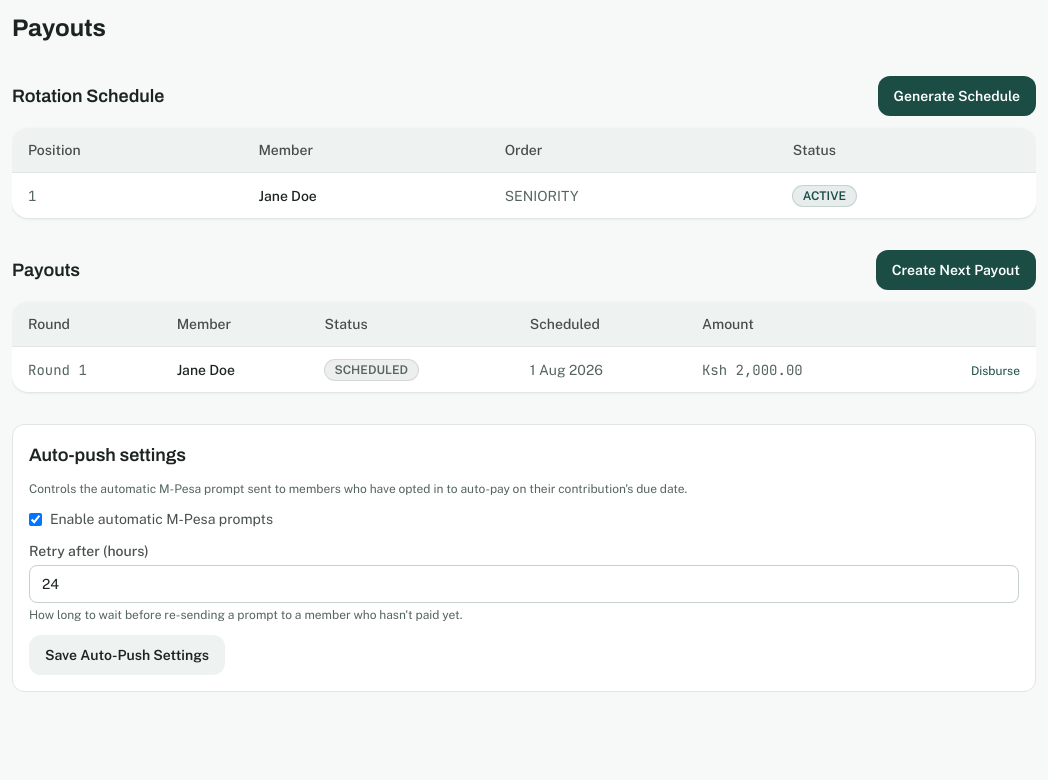
Scenario: PayoutsPage › preloads auto-push settings for a manager and saves changes
Check: the heading "Auto-push settings" is shown, box [29,445,186,465]
Check: the number field labelled "Retry after (hours)" holds "24", box [29,565,1019,603]
Click the checkbox named "Enable auto-push". click: (36, 519)
box: [29,512,42,526]
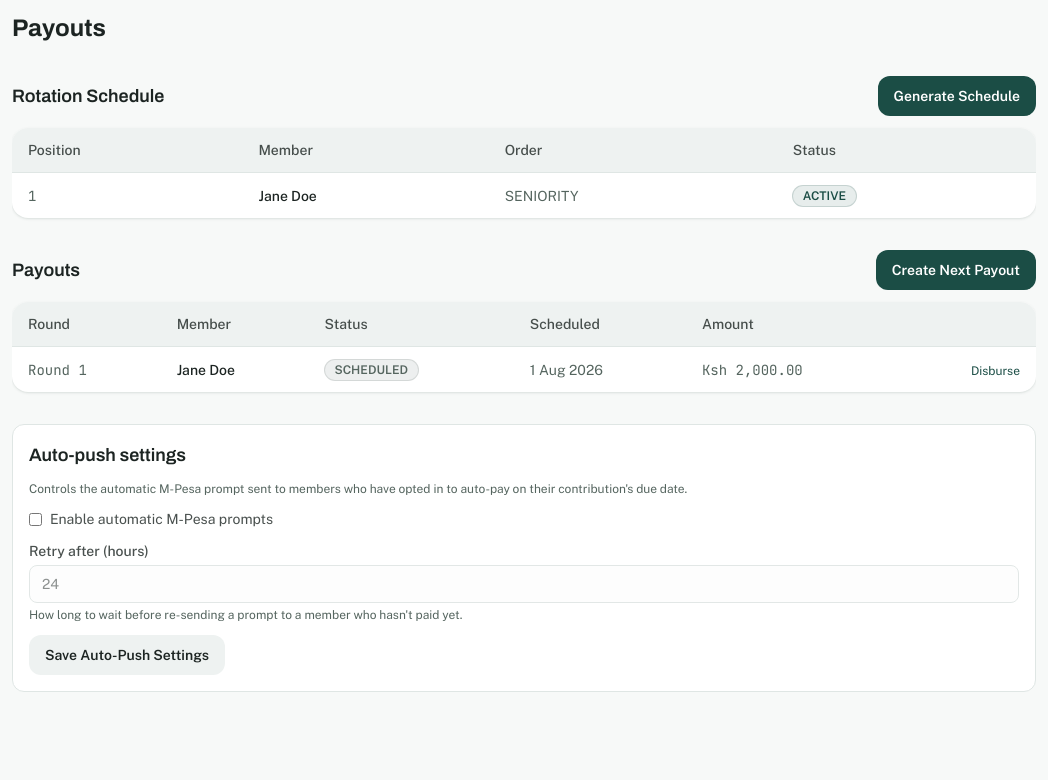
Replace the text in the number field labelled "Retry after (hours)" with "48". click: (524, 584)
box: [29,565,1019,603]
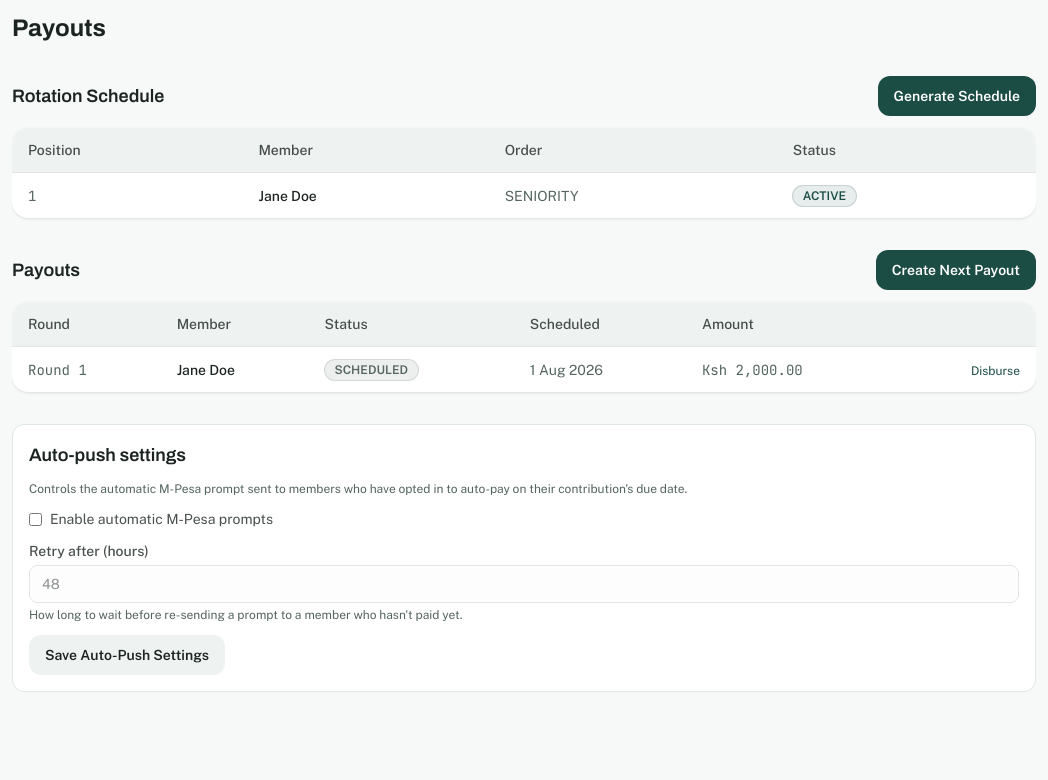
Click the button "Save Auto-Push Settings". click: (127, 655)
box: [29,635,225,675]
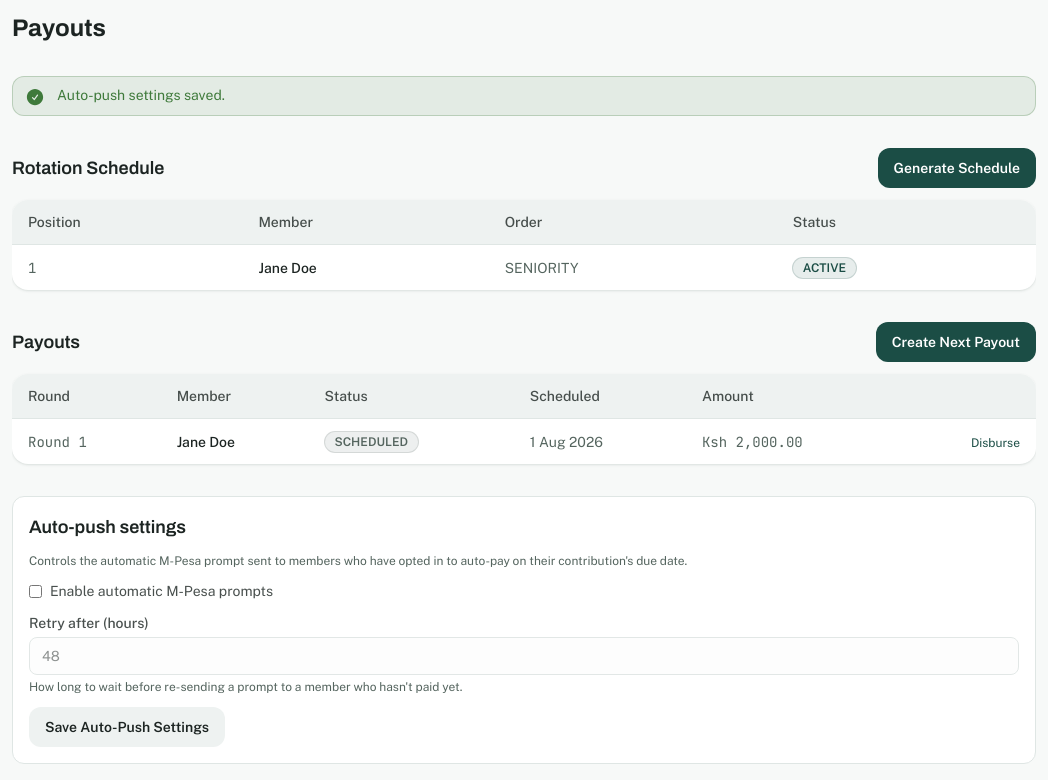
Check: the text "Auto-push settings saved." is shown, box [57,87,225,103]
